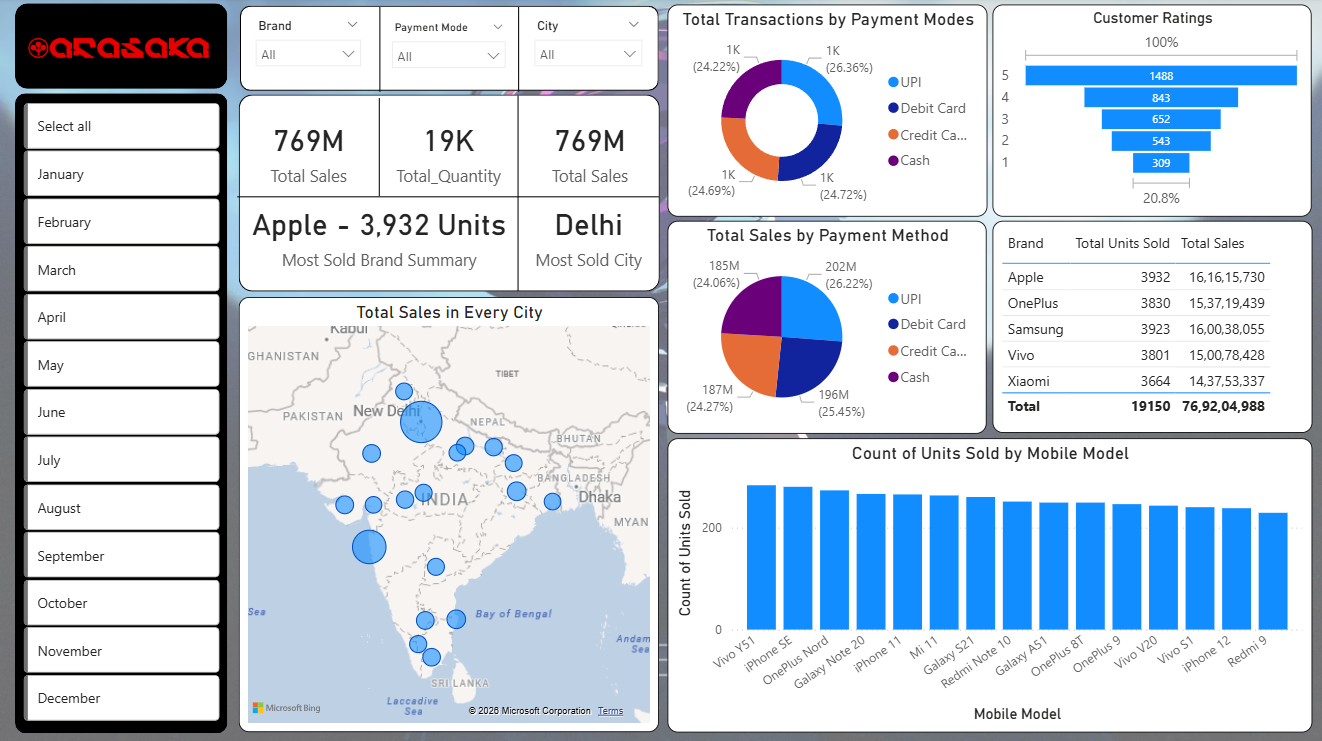

The page's visual inventory and layout, read from the dashboard file:
{"tool":"powerbi","page":{"name":"Page 1","canvas":[1280,720],"ordinal":0},"visuals":[{"type":"group","id":"g1","title":"Group 1","box":[0,0,228.8,98.8],"z":0},{"type":"shape","box":[14.7,6.4,205.1,82.7],"z":0,"group":"g1"},{"type":"shape","box":[231.6,8.4,404.2,82],"z":0,"group":"g5"},{"type":"shape","box":[14.5,92.9,205.1,617.7],"z":0,"group":"g4"},{"type":"shape","box":[230.3,94.7,406.4,190.2],"z":0,"group":"g2"},{"type":"shape","box":[229.2,97.7,406.4,190.2],"z":0,"group":"g3"},{"type":"image","box":[0,0,228.8,98.8],"z":1000,"group":"g1"},{"type":"group","id":"g2","title":"Group 3","box":[229.2,92.9,406.6,194.2],"z":1000},{"type":"shape","box":[230.3,97.7,271.3,94.7],"z":1000,"group":"g3"},{"type":"shape","box":[365,9.3,270,81.9],"z":1500,"group":"g5"},{"type":"shape","box":[364.3,95.7,271.3,188.5],"z":2000,"group":"g3"},{"type":"advancedSlicerVisual","fields":{"Values":["Mobile_Sales_Data.Date.Variation.Date Hierarchy.Month"]},"box":[18.1,100.1,199.1,611.7],"z":2000,"group":"g4"},{"type":"map","title":"Total Sales in Every City","fields":{"Category":["Mobile_Sales_Data.City"],"Size":["Mobile_Sales_Data.Total Sales"]},"box":[230,290,405.6,420],"z":2000},{"type":"card","fields":{"Values":["Mobile_Sales_Data.Total_Quantity"]},"box":[365.4,92.9,135.1,109.7],"z":3000,"group":"g2"},{"type":"clusteredColumnChart","fields":{"Category":["Mobile_Sales_Data.Mobile Model"],"Y":["CountNonNull(Mobile_Sales_Data.Units Sold)"]},"box":[644.2,426.3,622.1,283.7],"z":3000},{"type":"card","fields":{"Values":["Mobile_Sales_Data.Most Sold Brand Summary"]},"box":[230.3,173.4,271.3,109.7],"z":4000,"group":"g2"},{"type":"pieChart","fields":{"Category":["Mobile_Sales_Data.Payment Method"],"Y":["Mobile_Sales_Data.Total Sales"]},"box":[644.2,215.8,307.9,205.3],"z":4000},{"type":"donutChart","title":"Total Transactions by Payment Modes","fields":{"Category":["Mobile_Sales_Data.Payment Method"],"Y":["Mobile_Sales_Data.Transactions"]},"box":[644,7,309,205],"z":5000},{"type":"card","fields":{"Values":["Mobile_Sales_Data.Total_Sales"]},"box":[501.6,92.9,135.1,109.7],"z":5000,"group":"g2"},{"type":"funnel","title":"Customer Ratings","fields":{"Category":["Mobile_Sales_Data.Customer Ratings"],"Y":["CountNonNull(Mobile_Sales_Data.Customer Ratings)"]},"box":[958,7,308,205],"z":6000},{"type":"card","fields":{"Values":["Mobile_Sales_Data.Total_Sales"]},"box":[230.3,92.9,135.1,109.7],"z":6000,"group":"g2"},{"type":"group","id":"g3","title":"Group 2","box":[229.2,95.7,406.4,192.2],"z":7000,"group":"g2"},{"type":"tableEx","title":"Customer Ratings","fields":{"Values":["Mobile_Sales_Data.Brand","Mobile_Sales_Data.Total Units Sold","Mobile_Sales_Data.Total Sales"]},"box":[957.9,216,308.8,205.1],"z":7000},{"type":"group","id":"g4","title":"Group 5","box":[14.5,92.9,205.1,618.9],"z":8000},{"type":"card","fields":{"Values":["Mobile_Sales_Data.Most Sold City"]},"box":[500.5,174.3,135.1,109.7],"z":8000,"group":"g2"},{"type":"group","id":"g5","title":"Group 4","box":[231.2,8.4,404.5,82.8],"z":9000},{"type":"slicer","fields":{"Values":["Mobile_Sales_Data.City"]},"box":[505.5,15.7,124.3,65.1],"z":10000},{"type":"slicer","fields":{"Values":["Mobile_Sales_Data.Brand"]},"box":[236.5,15.7,121.9,65.1],"z":11000},{"type":"slicer","fields":{"Values":["Mobile_Sales_Data.Payment Method"]},"box":[368,18.1,130.3,65.1],"z":12000},{"type":"shape","box":[231.2,9.3,270,81.9],"z":13000,"group":"g5"}]}

Visuals, with their boxes in screenshot pixels (x1, y1, x2, y2), scaled from the page's 1280x720 canvas onto the 1322x741 screenshot:
"Group 1" group: <bbox>0, 0, 236, 102</bbox>
shape: <bbox>15, 7, 227, 92</bbox>
shape: <bbox>239, 9, 657, 93</bbox>
shape: <bbox>15, 96, 227, 731</bbox>
shape: <bbox>238, 97, 658, 293</bbox>
shape: <bbox>237, 101, 656, 296</bbox>
image: <bbox>0, 0, 236, 102</bbox>
"Group 3" group: <bbox>237, 96, 657, 295</bbox>
shape: <bbox>238, 101, 518, 198</bbox>
shape: <bbox>377, 10, 656, 94</bbox>
shape: <bbox>376, 98, 656, 292</bbox>
advancedSlicerVisual - Mobile_Sales_Data.Date.Variation.Date Hierarchy.Month: <bbox>19, 103, 224, 733</bbox>
"Total Sales in Every City" map: <bbox>238, 298, 656, 731</bbox>
card - Mobile_Sales_Data.Total_Quantity: <bbox>377, 96, 517, 209</bbox>
clusteredColumnChart - Mobile_Sales_Data.Mobile Model x CountNonNull(Mobile_Sales_Data.Units Sold): <bbox>665, 439, 1308, 731</bbox>
card - Mobile_Sales_Data.Most Sold Brand Summary: <bbox>238, 178, 518, 291</bbox>
pieChart - Mobile_Sales_Data.Payment Method x Mobile_Sales_Data.Total Sales: <bbox>665, 222, 983, 433</bbox>
"Total Transactions by Payment Modes" donutChart: <bbox>665, 7, 984, 218</bbox>
card - Mobile_Sales_Data.Total_Sales: <bbox>518, 96, 658, 209</bbox>
"Customer Ratings" funnel: <bbox>989, 7, 1308, 218</bbox>
card - Mobile_Sales_Data.Total_Sales: <bbox>238, 96, 377, 209</bbox>
"Group 2" group: <bbox>237, 98, 656, 296</bbox>
"Customer Ratings" tableEx: <bbox>989, 222, 1308, 433</bbox>
"Group 5" group: <bbox>15, 96, 227, 733</bbox>
card - Mobile_Sales_Data.Most Sold City: <bbox>517, 179, 656, 292</bbox>
"Group 4" group: <bbox>239, 9, 657, 94</bbox>
slicer - Mobile_Sales_Data.City: <bbox>522, 16, 650, 83</bbox>
slicer - Mobile_Sales_Data.Brand: <bbox>244, 16, 370, 83</bbox>
slicer - Mobile_Sales_Data.Payment Method: <bbox>380, 19, 515, 86</bbox>
shape: <bbox>239, 10, 518, 94</bbox>
